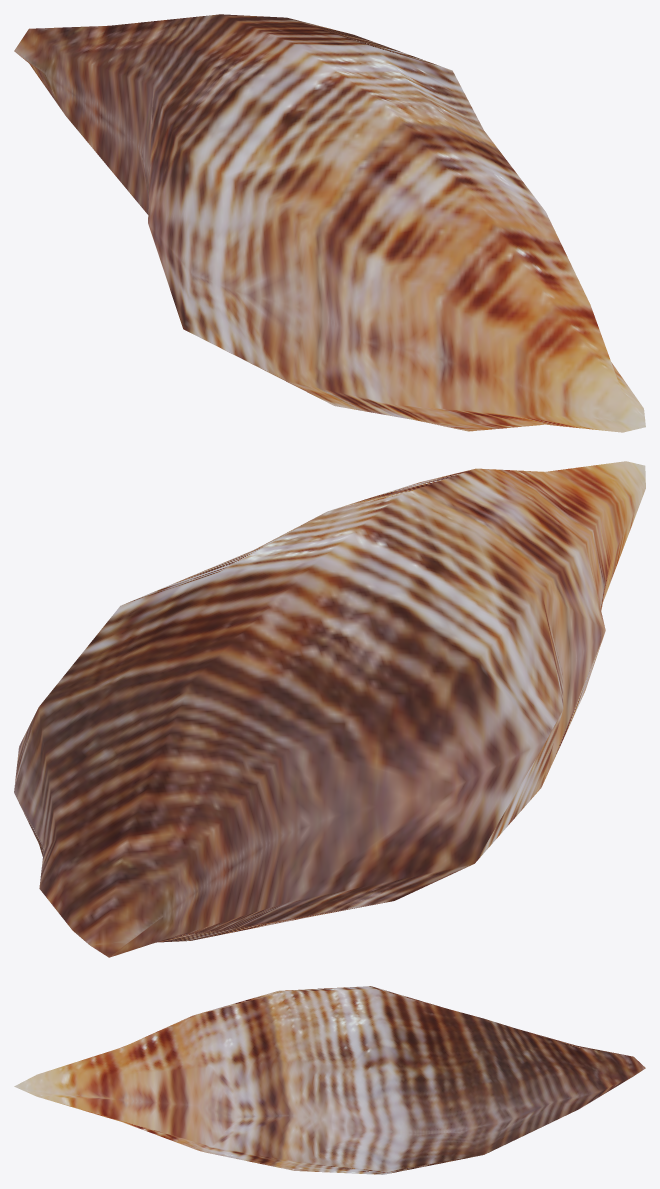
Rendered from SeaShell-09_LOD0_FattooCreater.glb.
3 renders of one model, top to bottom at view 1: azimuth 30°, elevation 25°; view 2: azimuth 150°, elevation 25°; view 3: azimuth 270°, elevation 25°, orthographic. The views are drawn at different scales.
Visible parts, largest first — view 1: SeaShell-09_high; view 2: SeaShell-09_high; view 3: SeaShell-09_high.
Part boxes in pixels (x1,y1,x2,y2): SeaShell-09_high: (14,14,645,432); SeaShell-09_high: (14,461,645,957); SeaShell-09_high: (14,986,645,1174).
Bounding box in the file's own units: 0.0114 × 0.00958 × 0.0311.
Materials: 1 (1 with a texture image).
